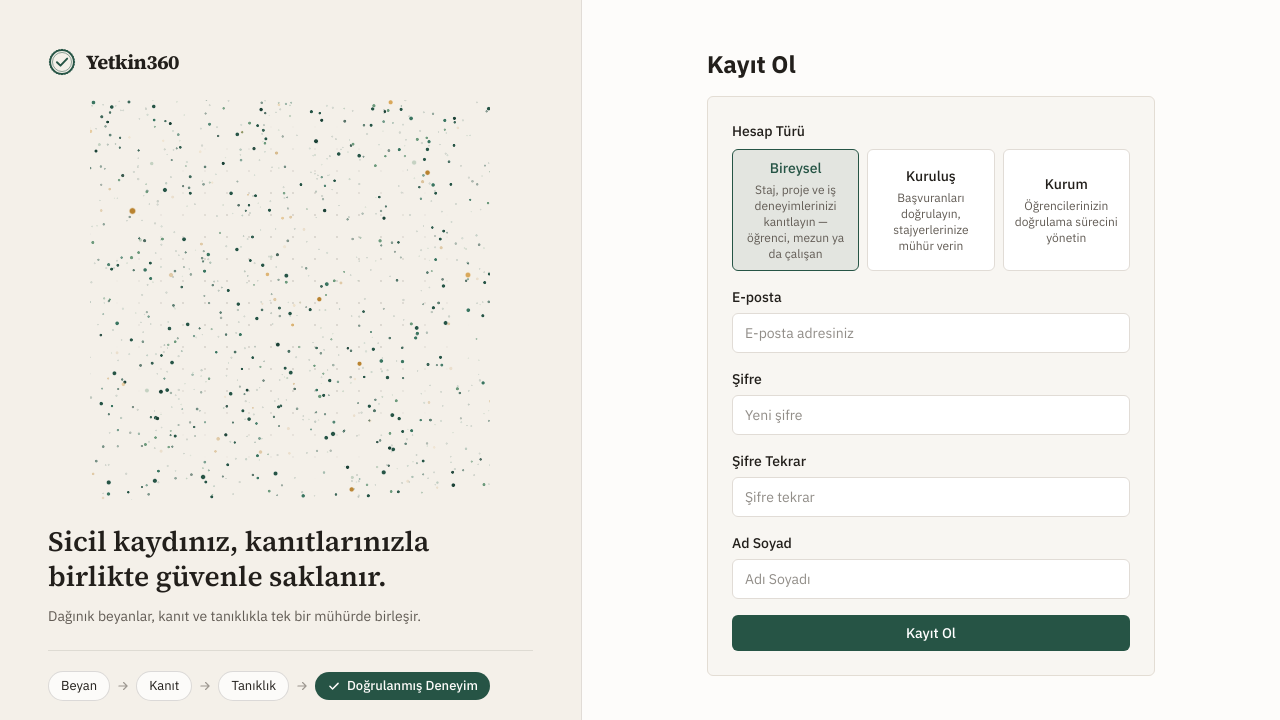
RegisterPage (kayit/page.tsx) — Kayıt Formu › AC-9: Client-side + backend validasyon › AC-9: Backend 422 dönerse ilgili alanın altında backend mesajı gösterilir
Type "newuser@example.com" into the field with placeholder "E-posta adresiniz". click: (931, 333)
box: [732,313,1130,353]
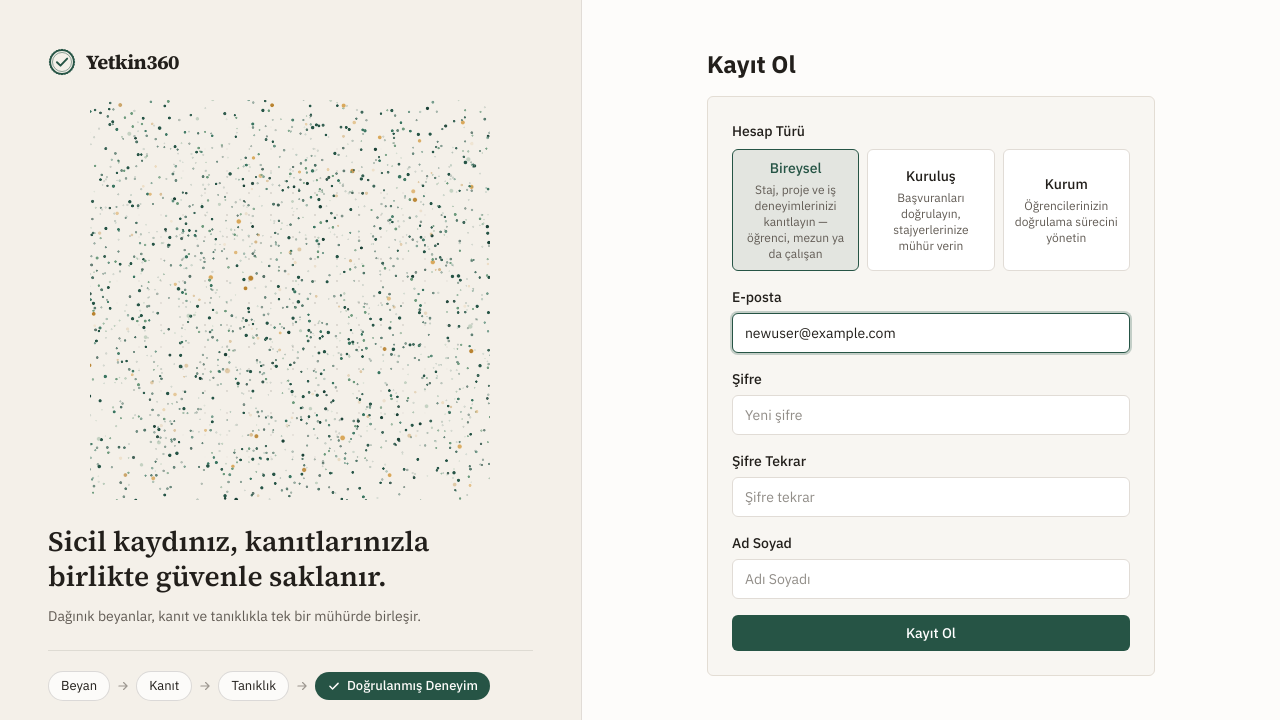
Type "WeakPass1" into the password field with placeholder "Yeni şifre". click: (931, 415)
box: [732,395,1130,435]
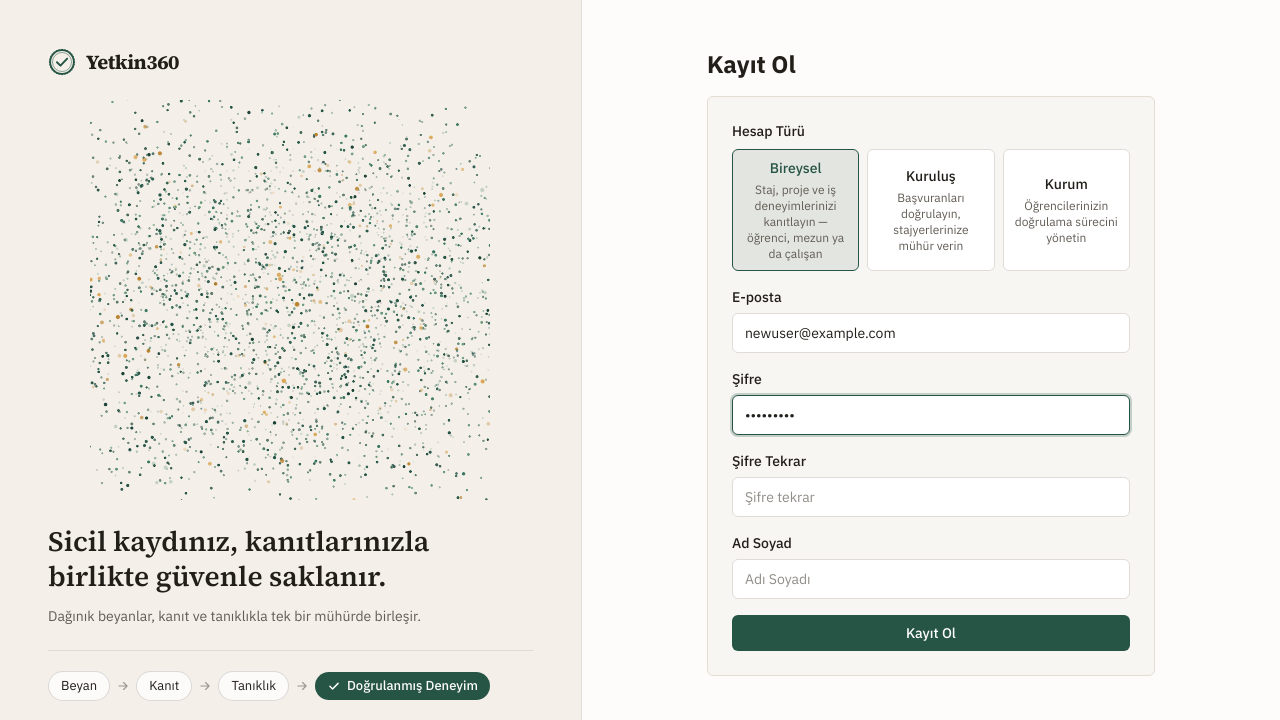
Type "Ahmet Yılmaz" into the field with placeholder "Adı Soyadı". click: (931, 579)
box: [732,559,1130,599]
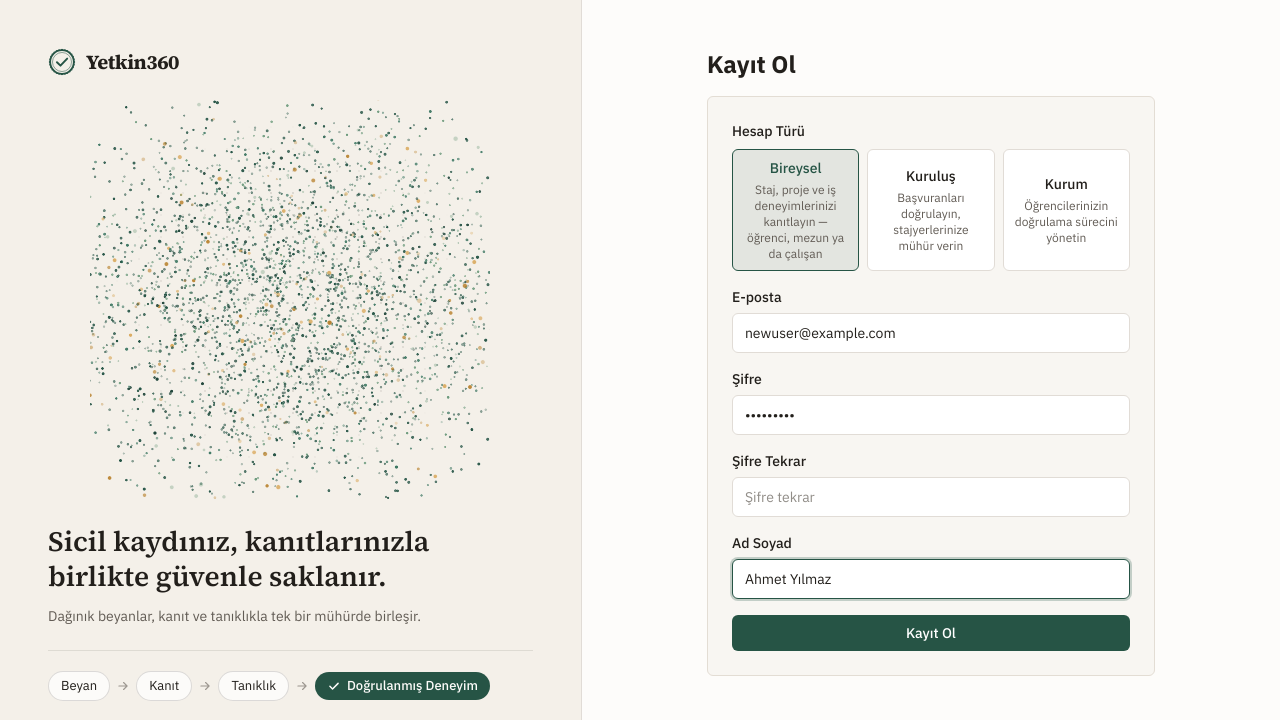
Click the button "Kayıt Ol". click: (931, 633)
box: [732,615,1130,651]
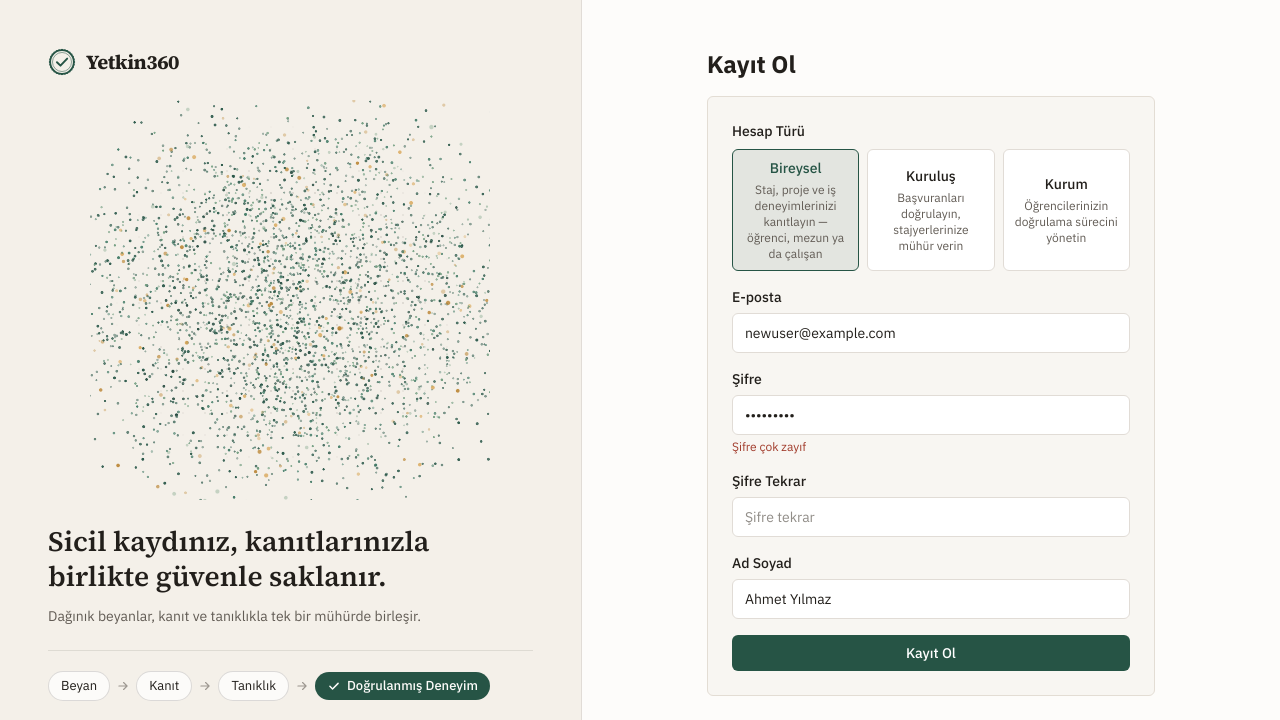
Expected: the text "Şifre çok zayıf" is shown, [732,439,806,454]
